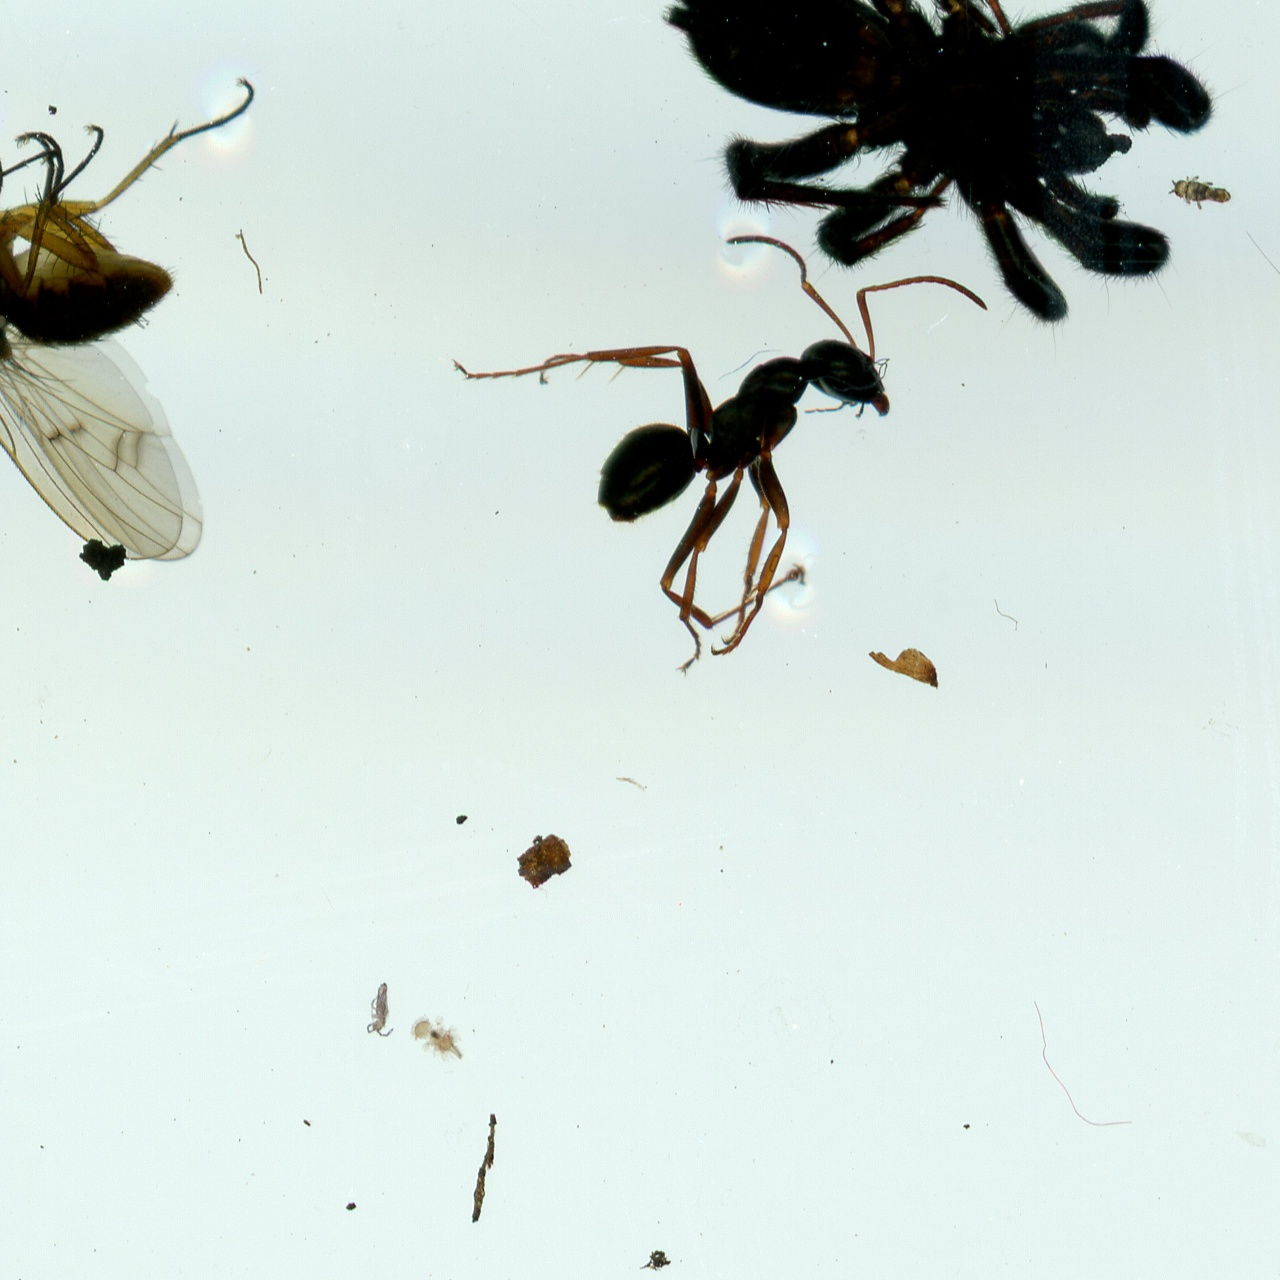arthropod: (445, 230, 992, 680), (658, 0, 1260, 370), (0, 69, 288, 574), (407, 1008, 469, 1067), (1167, 176, 1235, 212), (365, 978, 396, 1039)
